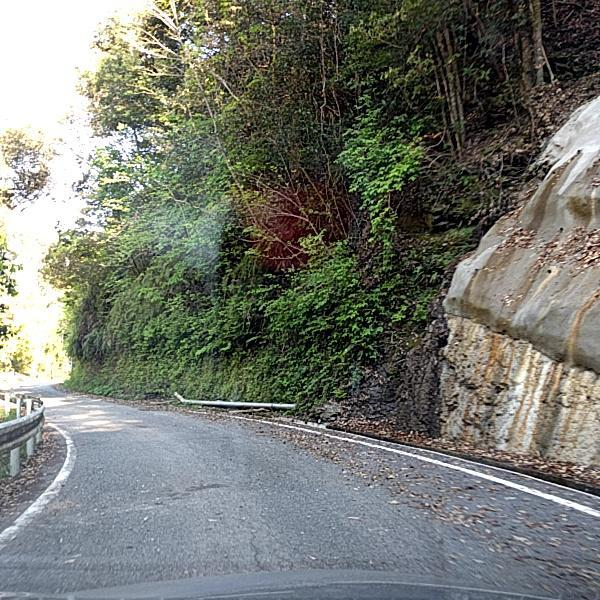D00: (244, 528, 263, 571)
